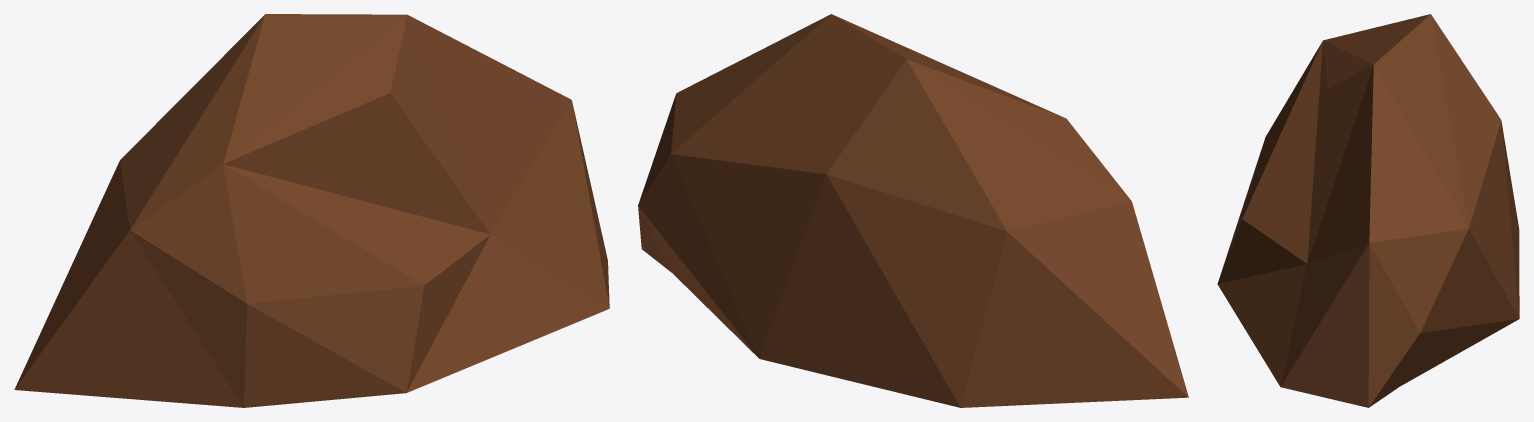
Rendered from Rock_1.fbx.
3 renders of one model, left to right at view 1: azimuth 30°, elevation 25°; view 2: azimuth 150°, elevation 25°; view 3: azimuth 270°, elevation 25°, orthographic. The views are drawn at different scales.
Parts seen in each view (by area): view 1: Rock_1; view 2: Rock_1; view 3: Rock_1.
Part boxes in pixels (bbox=[...]): Rock_1: bbox=[14, 14, 609, 407]; Rock_1: bbox=[638, 14, 1188, 407]; Rock_1: bbox=[1217, 14, 1519, 407].
Size of the model in its own units: 3974 by 1943 by 2035.
